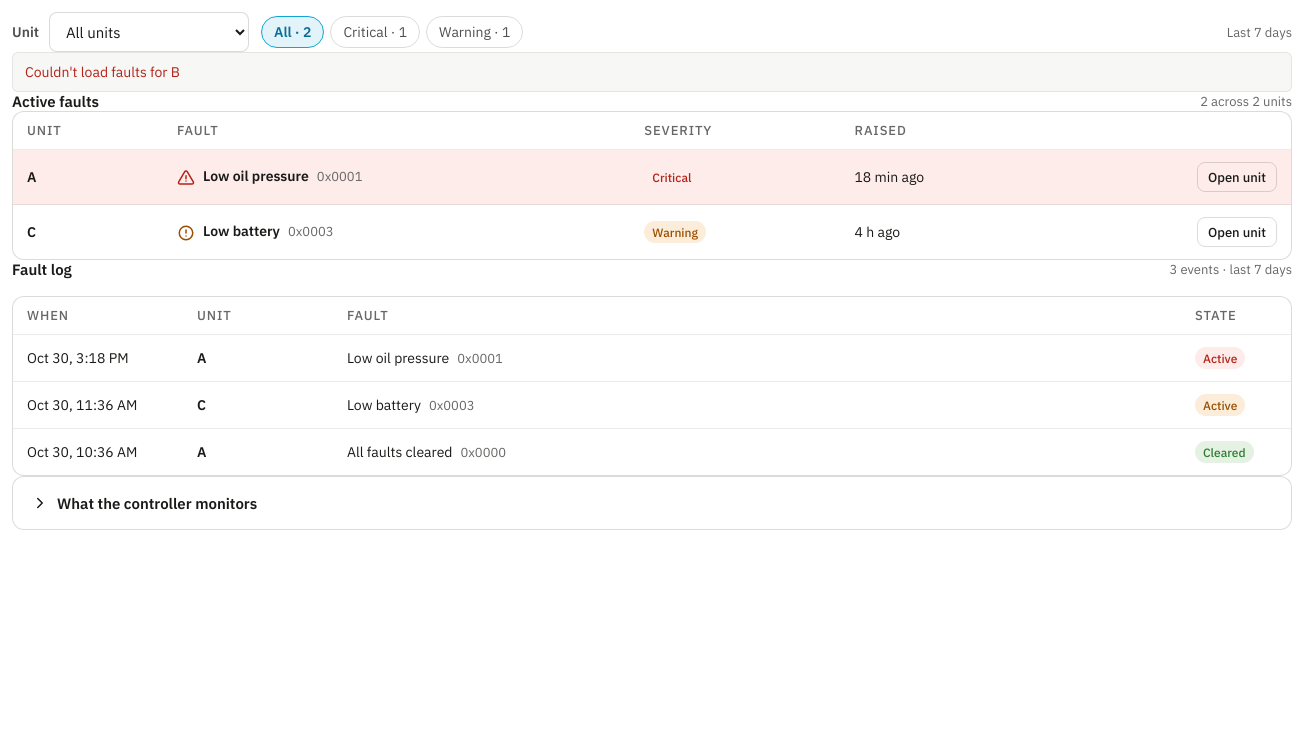
Test case: AlertsPage all units (admin / fm) › picking a unit switches to single-unit mode and updates AuthContext
Expected: the table named "Active faults" is shown, [13,112,1291,259]
Select "A" in the dropdown labelled "Unit" at (149, 32), box [49,12,249,52]
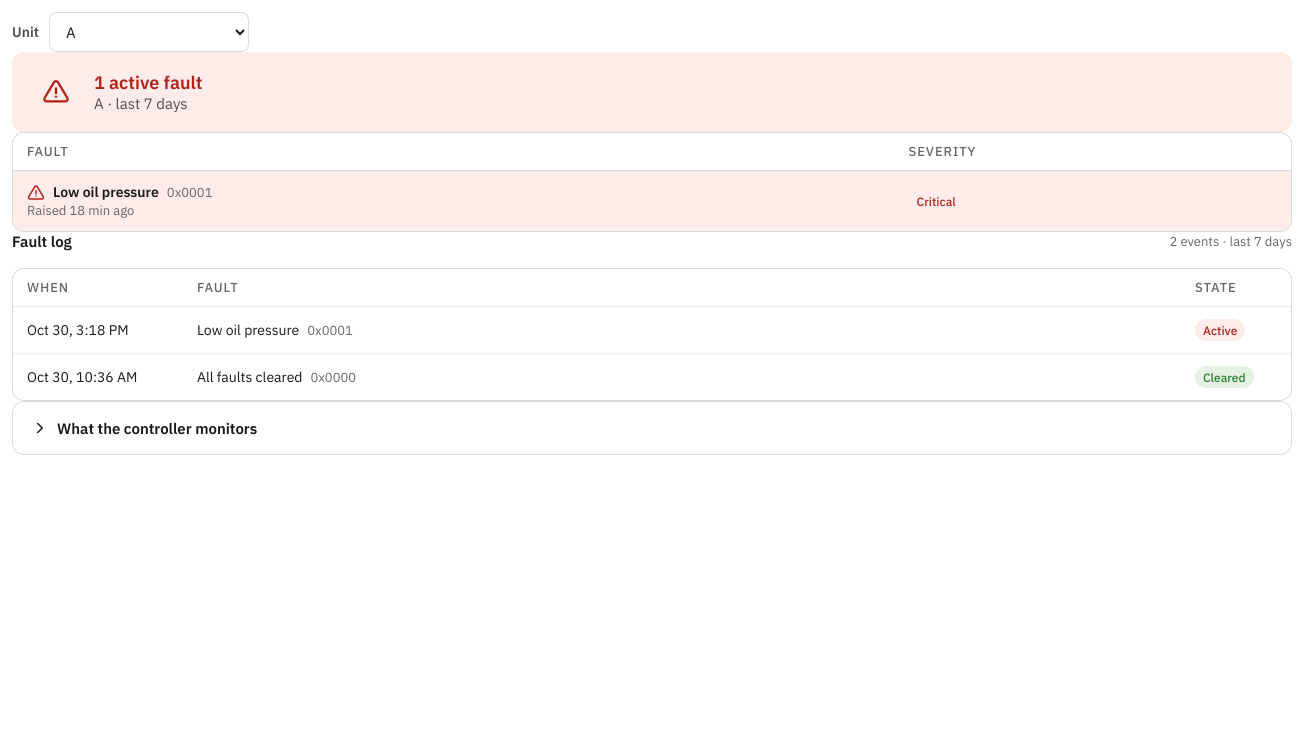
Expected: the element named "Fault status" is shown, [12,52,1292,132]
